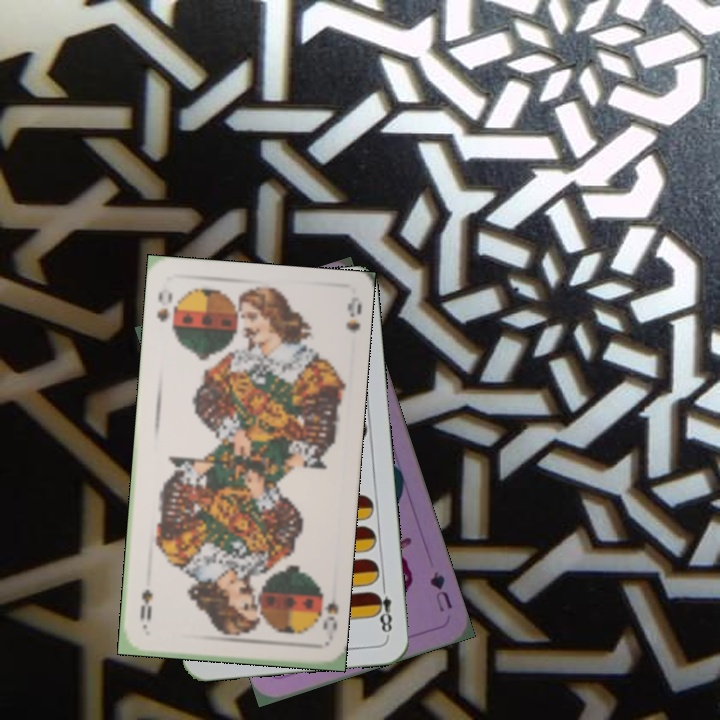E8: (370, 579, 395, 639)
GU: (425, 567, 455, 615)
SO: (313, 584, 341, 634), (153, 288, 175, 324)
